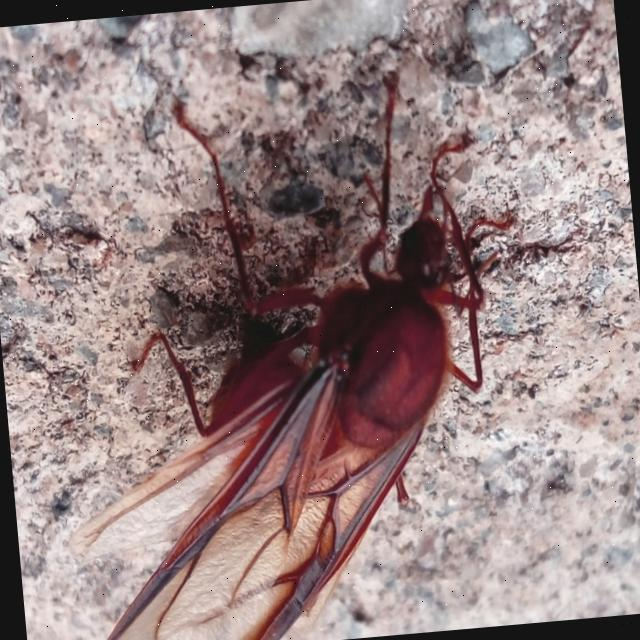Alive-Male-Alate: (29, 60, 549, 640)
